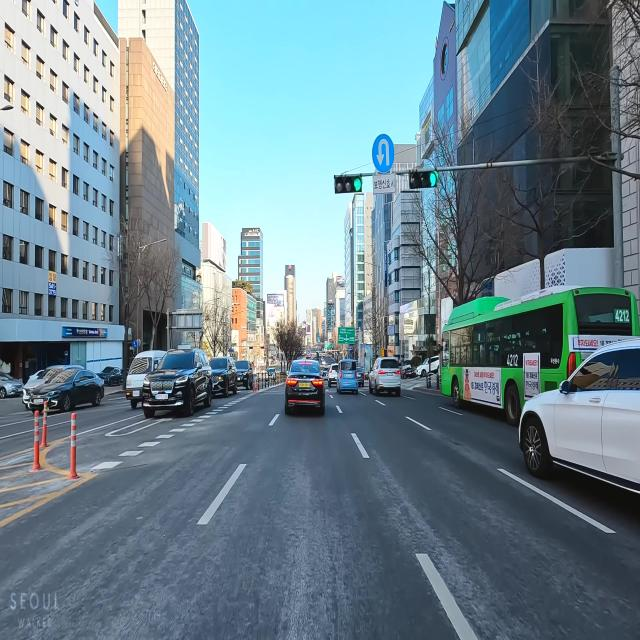Green Light: (429, 172, 437, 188), (354, 178, 362, 193)
